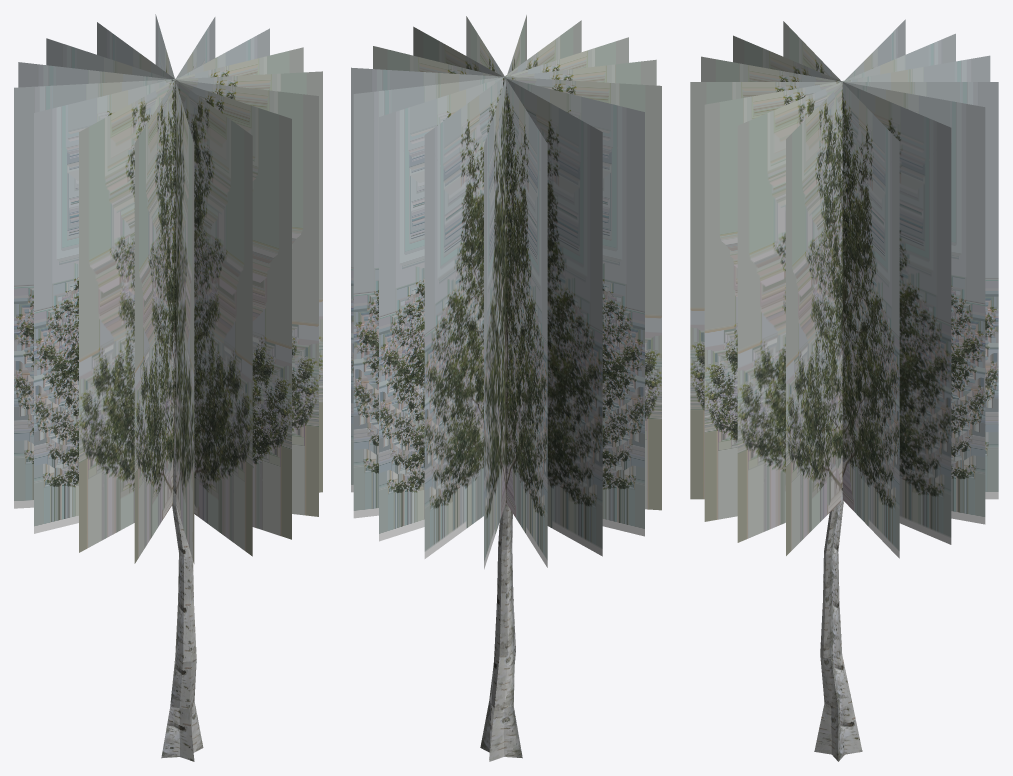
File: tree5.fbx
3 renders of one model, left to right at view 1: azimuth 30°, elevation 25°; view 2: azimuth 150°, elevation 25°; view 3: azimuth 270°, elevation 25°, orthographic.
Parts seen in each view (by area): view 1: tree5; view 2: tree5; view 3: tree5.
Boxes of the visible parts, x1=… form: tree5: x1=14, y1=14, x2=322, y2=761; tree5: x1=351, y1=15, x2=661, y2=761; tree5: x1=690, y1=19, x2=998, y2=761.
Size of the model in its own units: 49.89 by 119 by 49.89.
2 materials, 2 textured.
